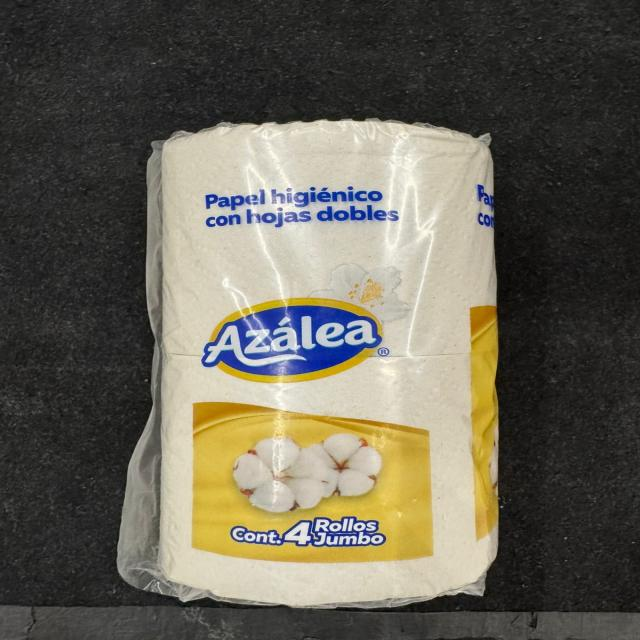PAPEL HIGIENICO AZALEA 4S CON AROMA: (137, 116, 512, 614)
